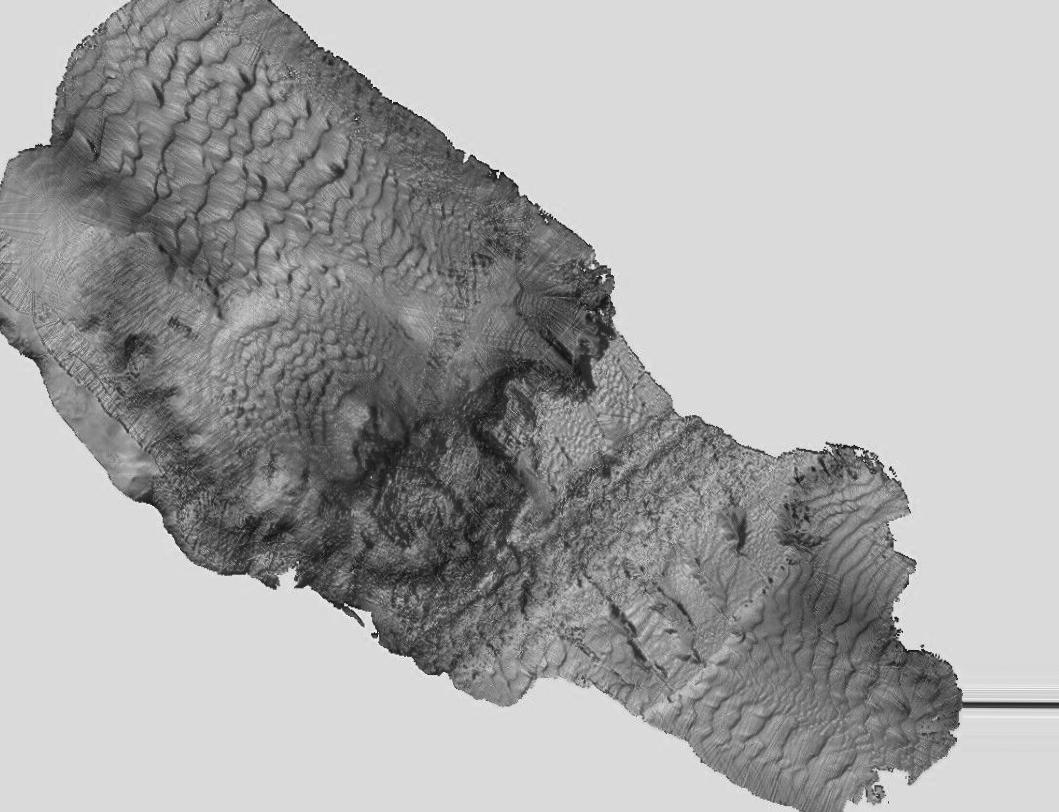Dune: (719, 609, 918, 777), (106, 21, 268, 191), (210, 241, 346, 420), (203, 136, 369, 250), (812, 469, 899, 621), (357, 179, 457, 288)
Scarp: (112, 477, 414, 671)
Scour pit: (296, 371, 431, 496)
Submerged dike: (395, 509, 567, 717), (555, 410, 735, 592)
